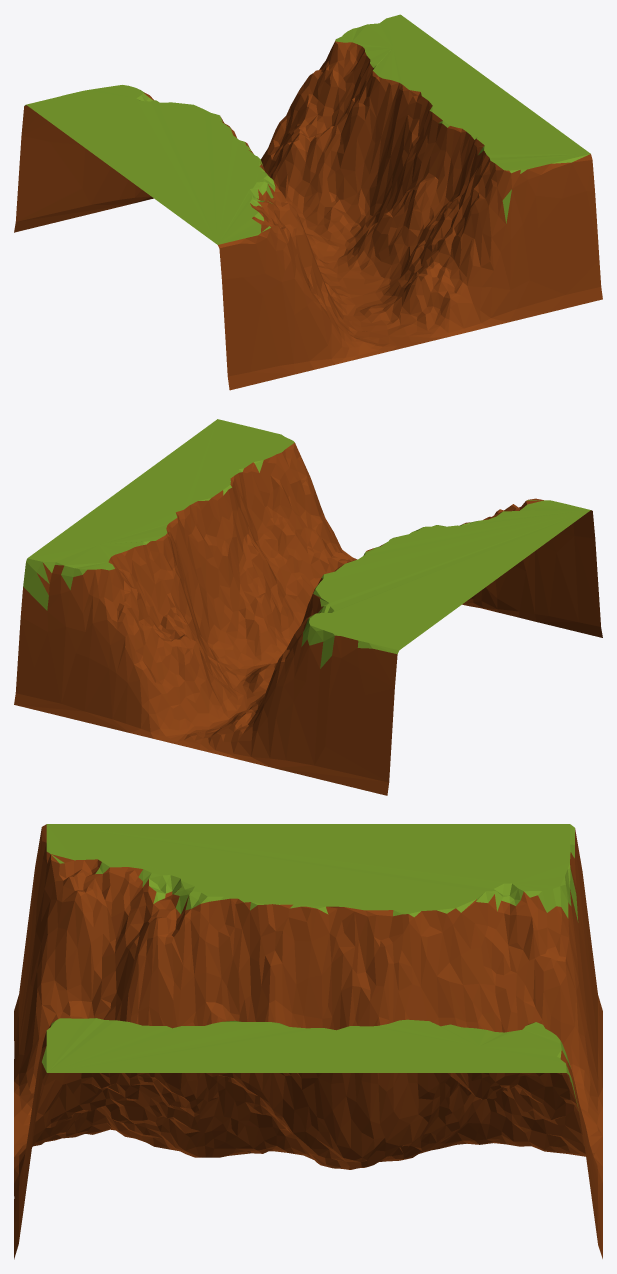
The model's file is valley.fbx.
3 renders of one model, top to bottom at view 1: azimuth 30°, elevation 25°; view 2: azimuth 150°, elevation 25°; view 3: azimuth 270°, elevation 25°, orthographic. The views are drawn at different scales.
Parts seen in each view (by area): view 1: Landscape.003; view 2: Landscape.003; view 3: Landscape.003.
Boxes of the visible parts, box(x1,y1,x2,y2) form: Landscape.003: box(14, 14, 602, 390); Landscape.003: box(14, 419, 602, 795); Landscape.003: box(14, 824, 602, 1259).
Size of the model in its own units: 200 by 70.08 by 200.
